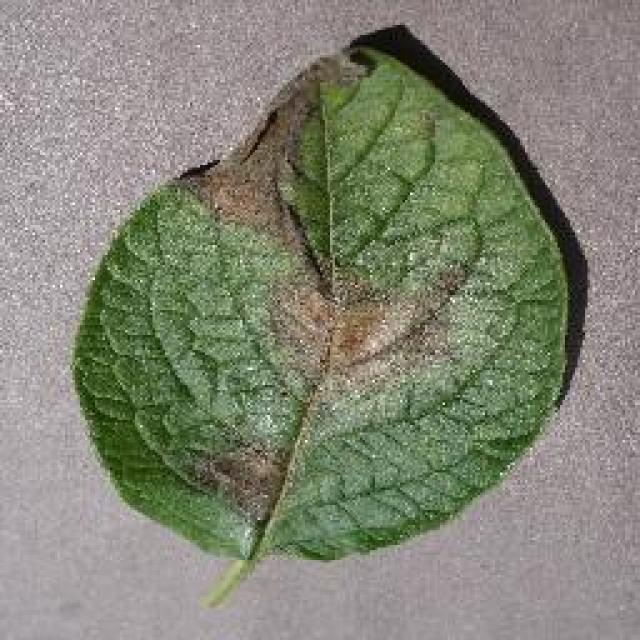late_blight: (65, 22, 587, 578)
